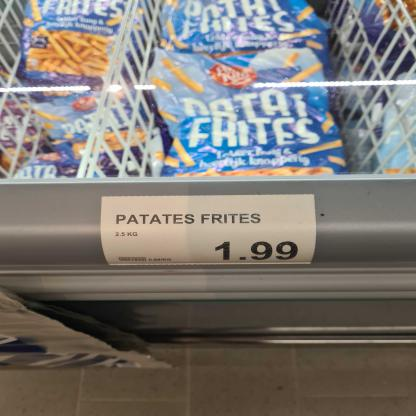prtg: (99, 196, 319, 268)
